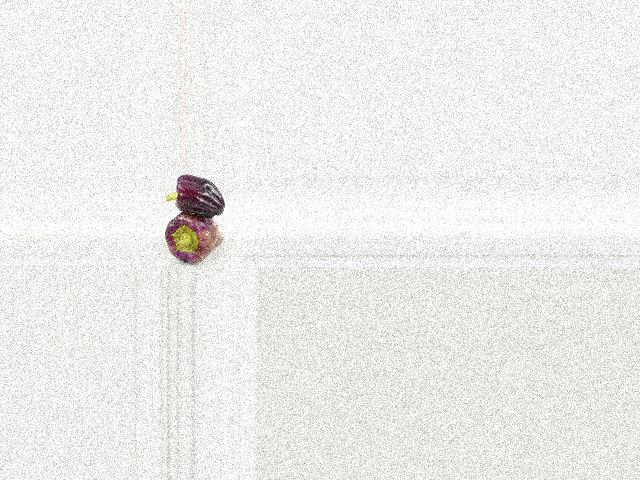bell_pepper: (153, 211, 233, 265)
